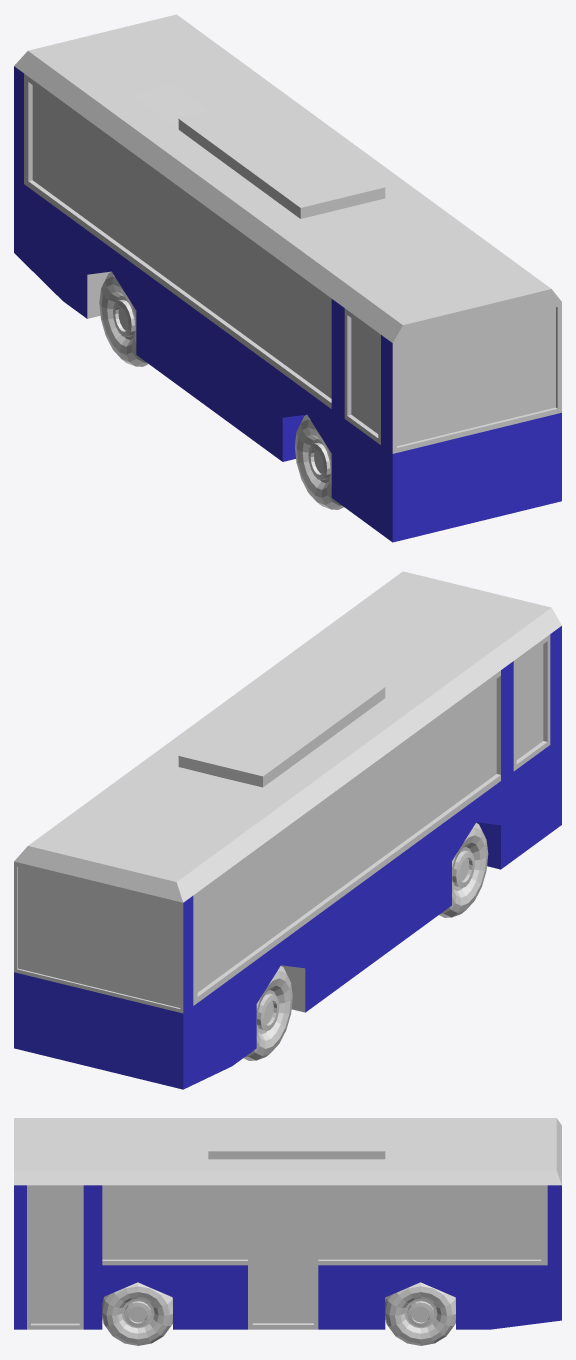
The model's file is Bus 1.fbx.
3 views of the same model, one above another, from view 1: azimuth 30°, elevation 25°; view 2: azimuth 150°, elevation 25°; view 3: azimuth 270°, elevation 25° (orthographic). The views are drawn at different scales.
Parts seen in each view (by area): view 1: Cube, Cylinder.001, Cylinder; view 2: Cube, Cylinder.001, Cylinder; view 3: Cube, Cylinder.001, Cylinder.
Boxes of the visible parts, x1,y1,x2,y2 form: Cube: (14,14,561,542); Cylinder.001: (99,271,148,366); Cylinder: (294,415,343,509); Cube: (14,571,561,1089); Cylinder.001: (243,966,292,1060); Cylinder: (439,822,488,917); Cube: (14,1118,561,1329); Cylinder.001: (385,1282,455,1345); Cylinder: (102,1282,172,1345).
Bounding box in the file's own units: 400 × 582 × 1550.
